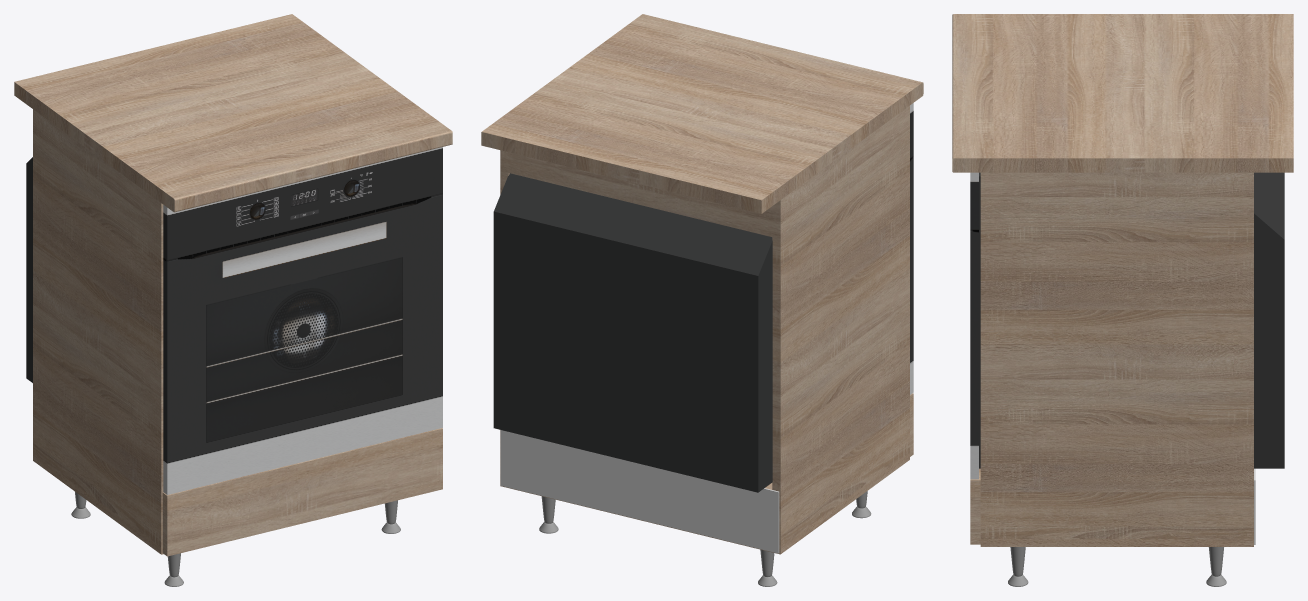
The picture shows the model from 3 angles, left to right: view 1: azimuth 30°, elevation 25°; view 2: azimuth 150°, elevation 25°; view 3: azimuth 270°, elevation 25°; orthographic projection. The views are drawn at different scales.
Visible parts, largest first — view 1: s_at_60_suto, s_at_60_munkalap, s_at_60_korpusz, s_at_60_fiok_1; view 2: s_at_60_suto, s_at_60_korpusz, s_at_60_munkalap; view 3: s_at_60_korpusz, s_at_60_munkalap, s_at_60_suto, s_at_60_fiok_1, s_at_60_lab_je, s_at_60_40_lab_jh.
Part boxes in pixels (x1,y1,x2,y2): s_at_60_suto: [26, 147, 442, 494]; s_at_60_munkalap: [14, 14, 452, 212]; s_at_60_korpusz: [33, 109, 163, 554]; s_at_60_fiok_1: [162, 428, 442, 556]; s_at_60_suto: [493, 103, 913, 492]; s_at_60_korpusz: [500, 105, 909, 554]; s_at_60_munkalap: [481, 14, 923, 213]; s_at_60_korpusz: [980, 172, 1255, 546]; s_at_60_munkalap: [952, 14, 1293, 172]; s_at_60_suto: [970, 172, 1284, 479]; s_at_60_fiok_1: [970, 468, 980, 544]; s_at_60_lab_je: [1008, 547, 1028, 586]; s_at_60_40_lab_jh: [1206, 547, 1226, 586].
Size of the model in its own units: 0.6 by 0.853 by 0.6.
Materials: 6 (4 with a texture image).
